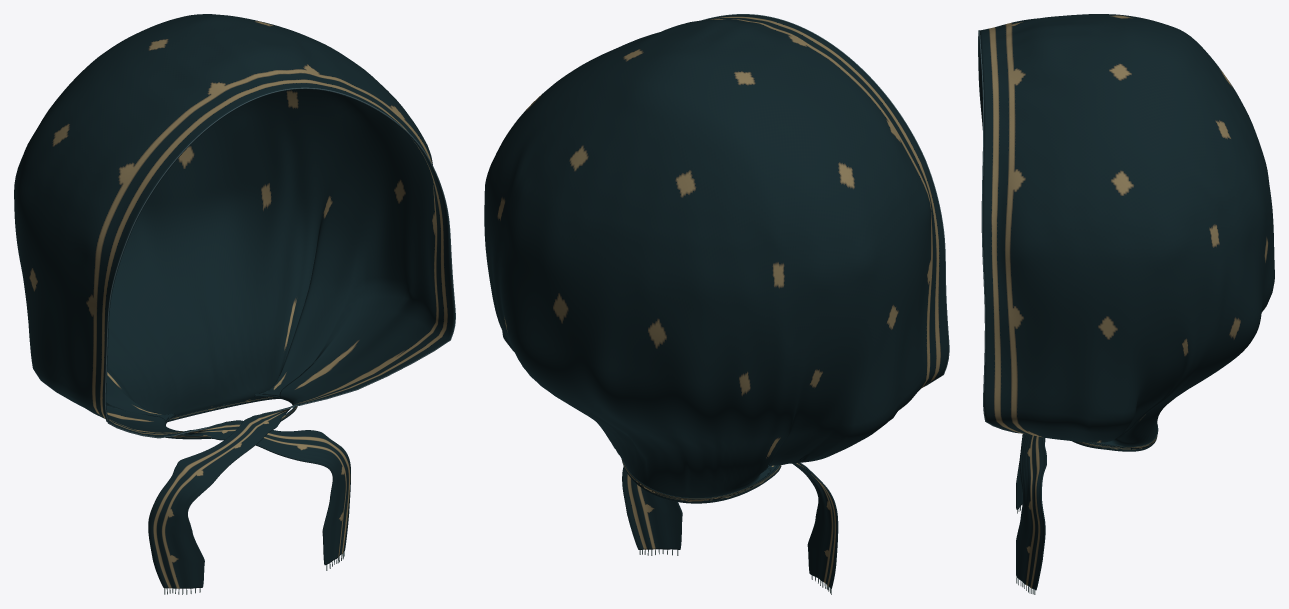
Rendered from Masculine-sidepart-buttonup-pashmina249-headgear.glb.
3 views of the same model, side by side, from view 1: azimuth 30°, elevation 25°; view 2: azimuth 150°, elevation 25°; view 3: azimuth 270°, elevation 25° (orthographic). The views are drawn at different scales.
Visible parts, largest first — view 1: 226 headgear / Headwear / continuous woven pashmina239, 226 headgear / Headwear / face edge239; view 2: 226 headgear / Headwear / continuous woven pashmina239, 226 headgear / Headwear / face edge239; view 3: 226 headgear / Headwear / continuous woven pashmina239, 226 headgear / Headwear / face edge239.
Boxes of the visible parts, <box> form: 226 headgear / Headwear / continuous woven pashmina239: <box>14,14,454,588</box>; 226 headgear / Headwear / face edge239: <box>104,87,455,438</box>; 226 headgear / Headwear / continuous woven pashmina239: <box>484,14,948,588</box>; 226 headgear / Headwear / face edge239: <box>702,14,949,387</box>; 226 headgear / Headwear / continuous woven pashmina239: <box>978,14,1274,590</box>; 226 headgear / Headwear / face edge239: <box>978,30,1018,433</box>.
Size of the model in its own units: 1.04 by 1.42 by 0.7321.
3 materials, 1 textured.
